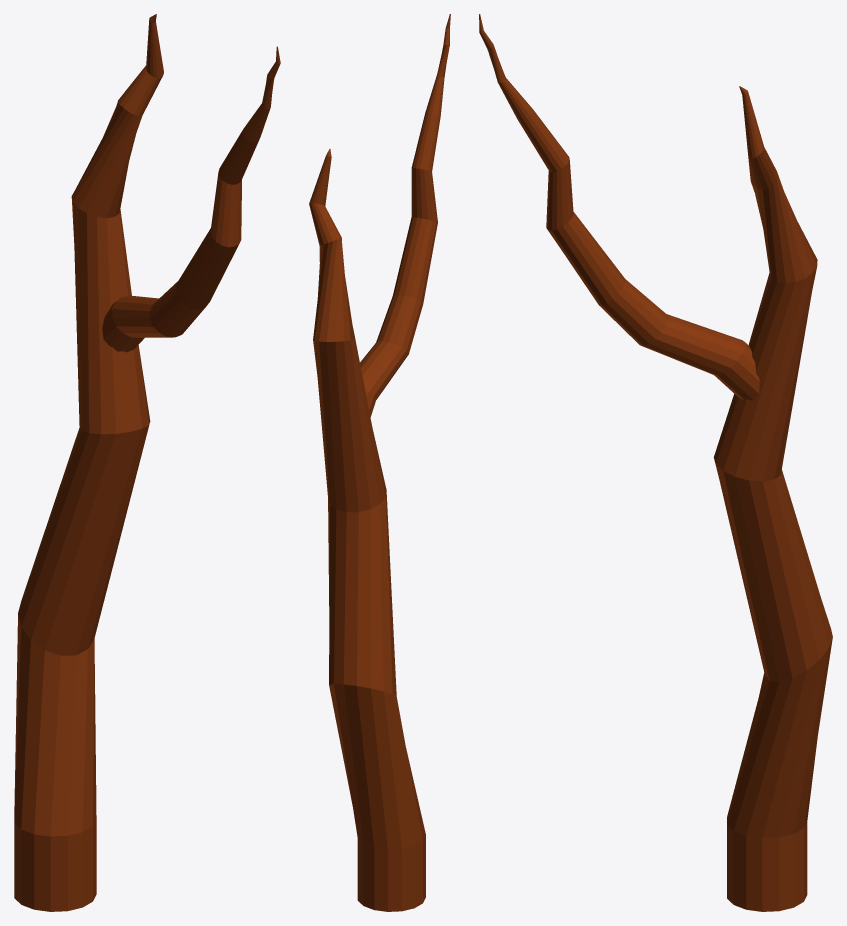
File: Tree_noleaves_brown.fbx
The picture shows the model from 3 angles, left to right: view 1: azimuth 30°, elevation 25°; view 2: azimuth 150°, elevation 25°; view 3: azimuth 270°, elevation 25°; orthographic projection. The views are drawn at different scales.
Parts seen in each view (by area): view 1: Cylinder; view 2: Cylinder; view 3: Cylinder.
Part boxes in pixels (x1=…): Cylinder: x1=14, y1=14, x2=280, y2=911; Cylinder: x1=309, y1=14, x2=450, y2=911; Cylinder: x1=479, y1=14, x2=832, y2=911.
Size of the model in its own units: 62.44 by 402 by 141.
